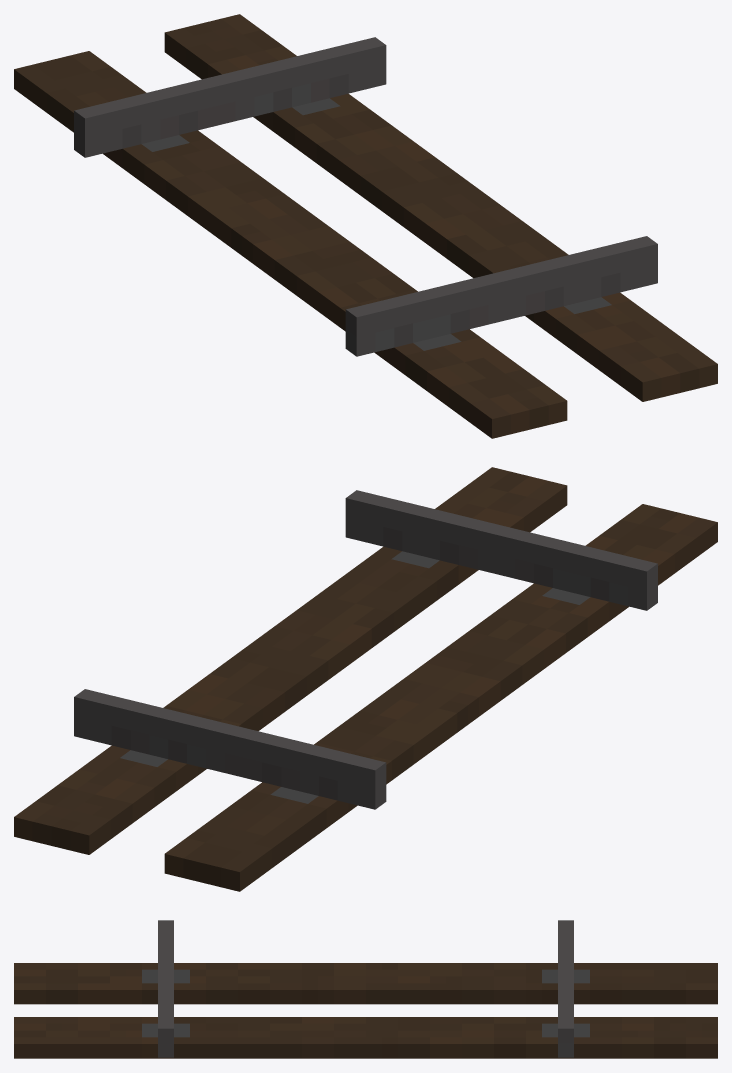
File: standard_us_track.obj
3 renders of one model, top to bottom at view 1: azimuth 30°, elevation 25°; view 2: azimuth 150°, elevation 25°; view 3: azimuth 270°, elevation 25°, orthographic. The views are drawn at different scales.
Visible parts, largest first — view 1: RAIL_BASE, RAIL_LEFT, RAIL_RIGHT; view 2: RAIL_BASE, RAIL_RIGHT, RAIL_LEFT; view 3: RAIL_BASE, RAIL_LEFT, RAIL_RIGHT.
Boxes of the visible parts, x1,y1,x2,y2 form: RAIL_BASE: (14,14,717,438); RAIL_LEFT: (345,236,657,356); RAIL_RIGHT: (74,37,386,157); RAIL_BASE: (14,467,717,891); RAIL_RIGHT: (74,689,386,809); RAIL_LEFT: (345,490,657,610); RAIL_BASE: (14,963,717,1058); RAIL_LEFT: (158,920,173,1057); RAIL_RIGHT: (558,920,573,1057).
Size of the model in its own units: 1 by 0.1875 by 2.75.
1 material, 1 textured.
